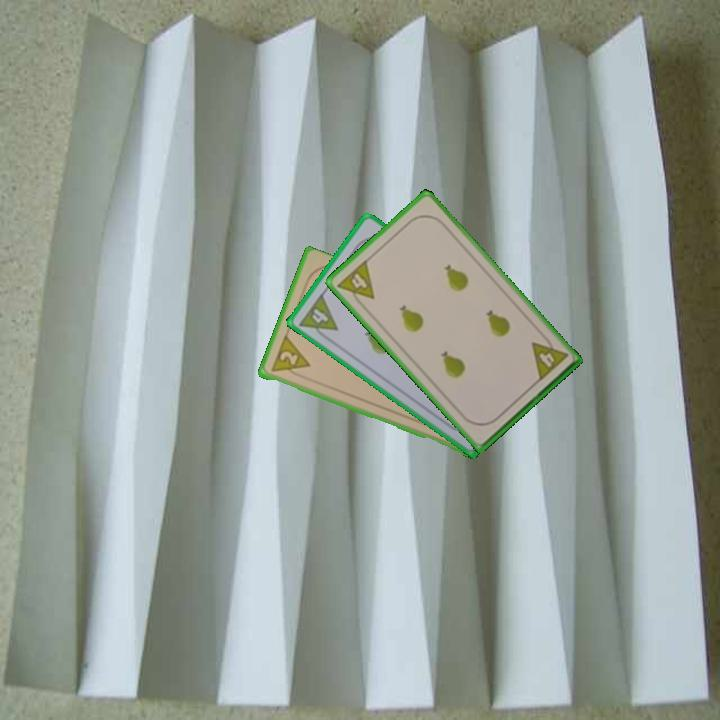2p: (267, 334, 313, 380)
4p: (295, 290, 341, 344), (334, 256, 377, 311), (528, 331, 570, 384)
